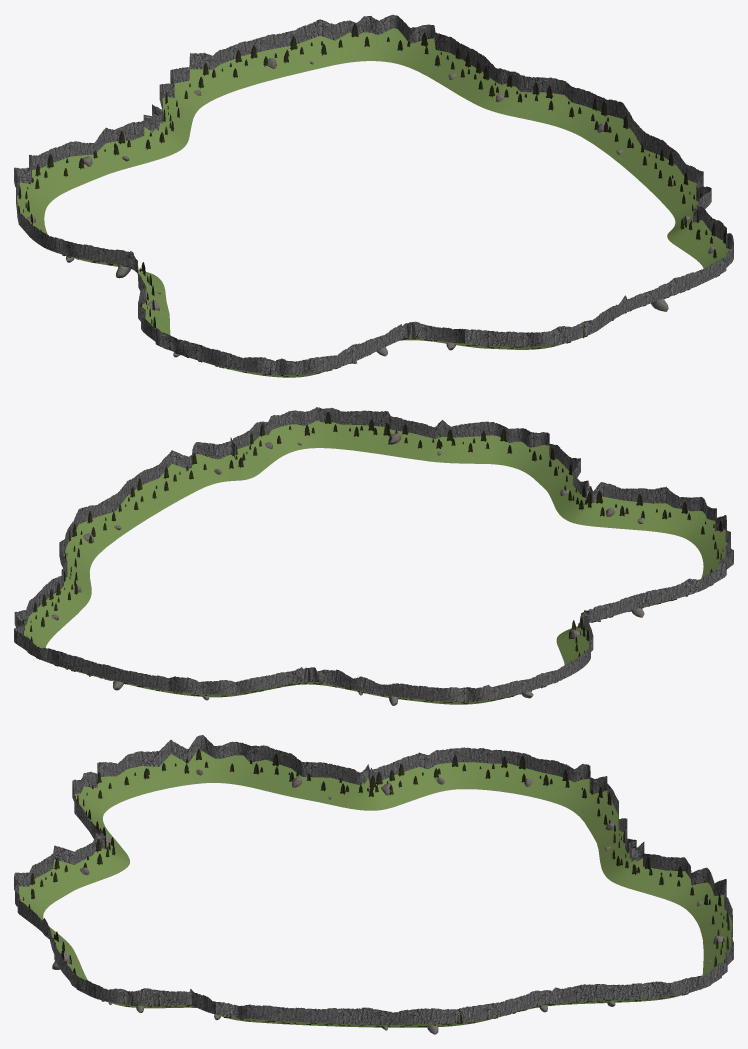
The picture shows the model from 3 angles, top to bottom: view 1: azimuth 30°, elevation 25°; view 2: azimuth 150°, elevation 25°; view 3: azimuth 270°, elevation 25°; orthographic projection. The views are drawn at different scales.
Parts seen in each view (by area): view 1: Wall_08, Wall_09, Wall_00, Wall_07, Wall_06, Wall_01, Wall_04, Wall_02, Wall_03, Wall_05, Trees_09, Trees_08 (+1 smaller); view 2: Wall_01, Wall_02, Wall_03, Wall_00, Wall_09, Wall_06, Wall_04, Wall_08, Wall_07, Wall_05, Trees_01, Trees_02 (+3 smaller); view 3: Wall_04, Wall_05, Wall_06, Wall_07, Wall_00, Wall_09, Wall_03, Wall_02, Wall_08, Wall_01, Trees_05, Trees_06 (+2 smaller).
Boxes of the visible parts, x1,y1,x2,y2 form: Wall_08: (212, 14, 450, 92); Wall_09: (427, 37, 605, 136); Wall_00: (582, 99, 711, 220); Wall_07: (114, 52, 230, 167); Wall_06: (14, 127, 130, 237); Wall_01: (667, 189, 733, 296); Wall_04: (138, 287, 303, 377); Wall_02: (465, 282, 668, 349); Wall_03: (299, 321, 473, 377); Wall_05: (30, 224, 169, 313); Trees_09: (434, 48, 596, 121); Trees_08: (221, 23, 441, 77); Wall_01: (197, 407, 390, 483); Wall_02: (382, 416, 580, 492); Wall_03: (548, 459, 706, 538); Wall_00: (73, 442, 214, 554); Wall_09: (29, 522, 98, 635); Wall_06: (353, 660, 574, 704); Wall_04: (627, 505, 733, 611); Wall_08: (14, 602, 175, 693); Wall_07: (168, 667, 358, 697); Wall_05: (556, 594, 637, 672); Trees_01: (229, 411, 390, 468); Trees_02: (388, 423, 572, 475); Wall_04: (80, 735, 302, 811); Wall_05: (293, 747, 477, 810); Wall_06: (475, 748, 627, 853); Wall_07: (599, 827, 726, 924); Wall_00: (215, 1001, 445, 1027); Wall_09: (442, 983, 640, 1026); Wall_03: (55, 779, 129, 887); Wall_02: (14, 845, 82, 970); Wall_08: (637, 896, 733, 1001); Wall_01: (54, 943, 229, 1018); Trees_05: (306, 755, 466, 796); Trees_06: (479, 755, 621, 843).
Size of what is drawn, in the model's own units: 576 by 34.23 by 642.
